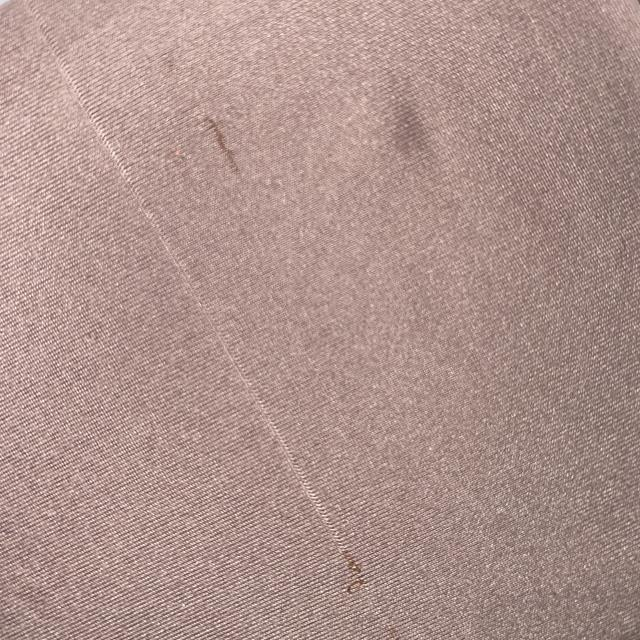Line: (17, 0, 368, 597)
Stain: (209, 118, 241, 172)
